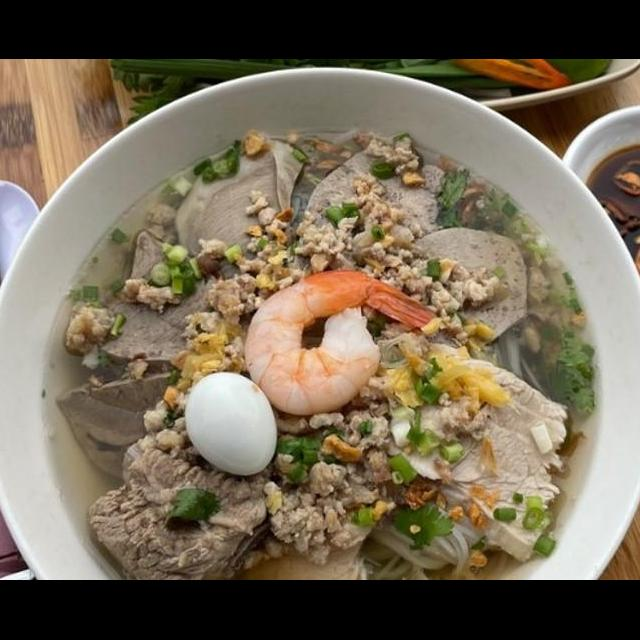banh hu tieu: (356, 484, 510, 580)
gan: (296, 138, 452, 296), (374, 224, 536, 356)
hu tieu: (0, 88, 640, 580)
thit bam: (290, 166, 504, 350), (253, 380, 408, 570), (182, 184, 312, 328), (516, 264, 592, 370), (136, 384, 200, 462), (56, 292, 126, 361), (114, 266, 178, 318)
thit heo: (378, 339, 572, 566), (80, 432, 272, 580), (165, 130, 308, 286), (88, 228, 236, 374)
tom: (238, 264, 441, 418)
trung: (180, 368, 282, 481)
